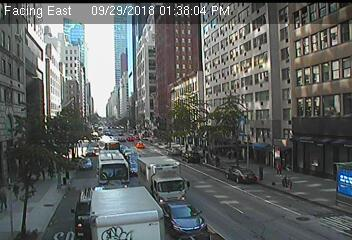car: (91, 187, 164, 240), (136, 157, 189, 211), (70, 187, 111, 240), (160, 200, 208, 236), (97, 150, 130, 192), (225, 167, 256, 185), (101, 140, 120, 157), (126, 160, 142, 176), (182, 152, 201, 164), (78, 159, 92, 170), (166, 147, 181, 156), (85, 148, 97, 158), (121, 149, 134, 158), (126, 154, 138, 163), (135, 141, 144, 149)
